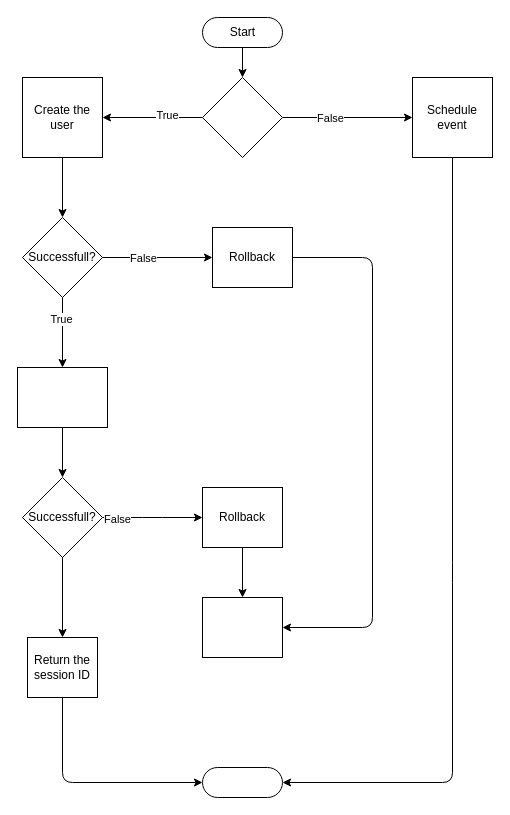
The diagram is 510 pixels wide and 815 high, and some of its shapes have lost their labels. The box of each missing label's shape, as (x1, y1, x2, y2) in pixels:
Create the login session: (16, 366, 108, 428)
End: (202, 766, 282, 798)
If autocommit: (202, 76, 282, 158)
Return an error: (202, 596, 282, 658)
